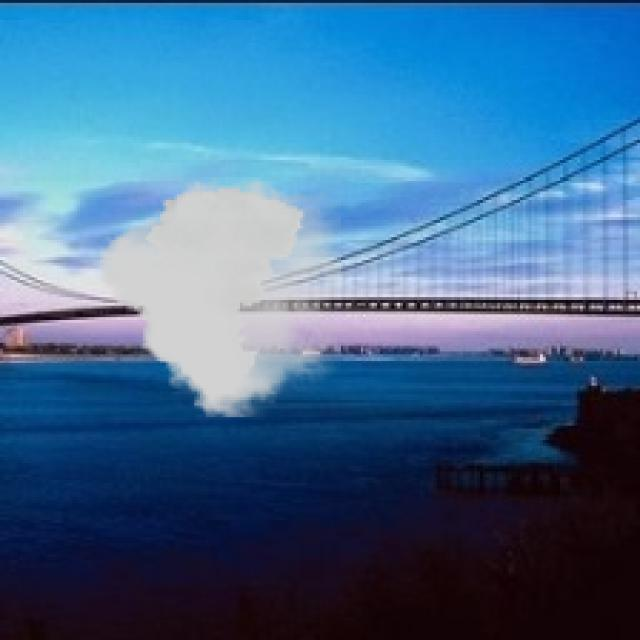Smoke: (100, 177, 340, 417)
